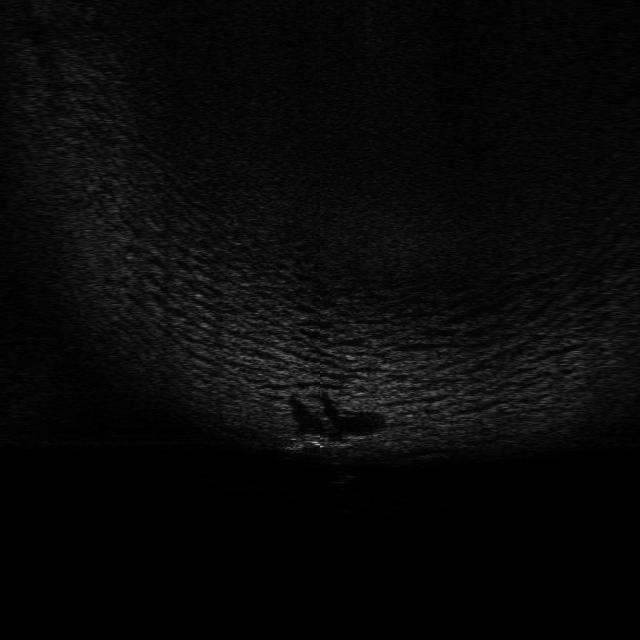plane: (281, 428, 373, 453)
